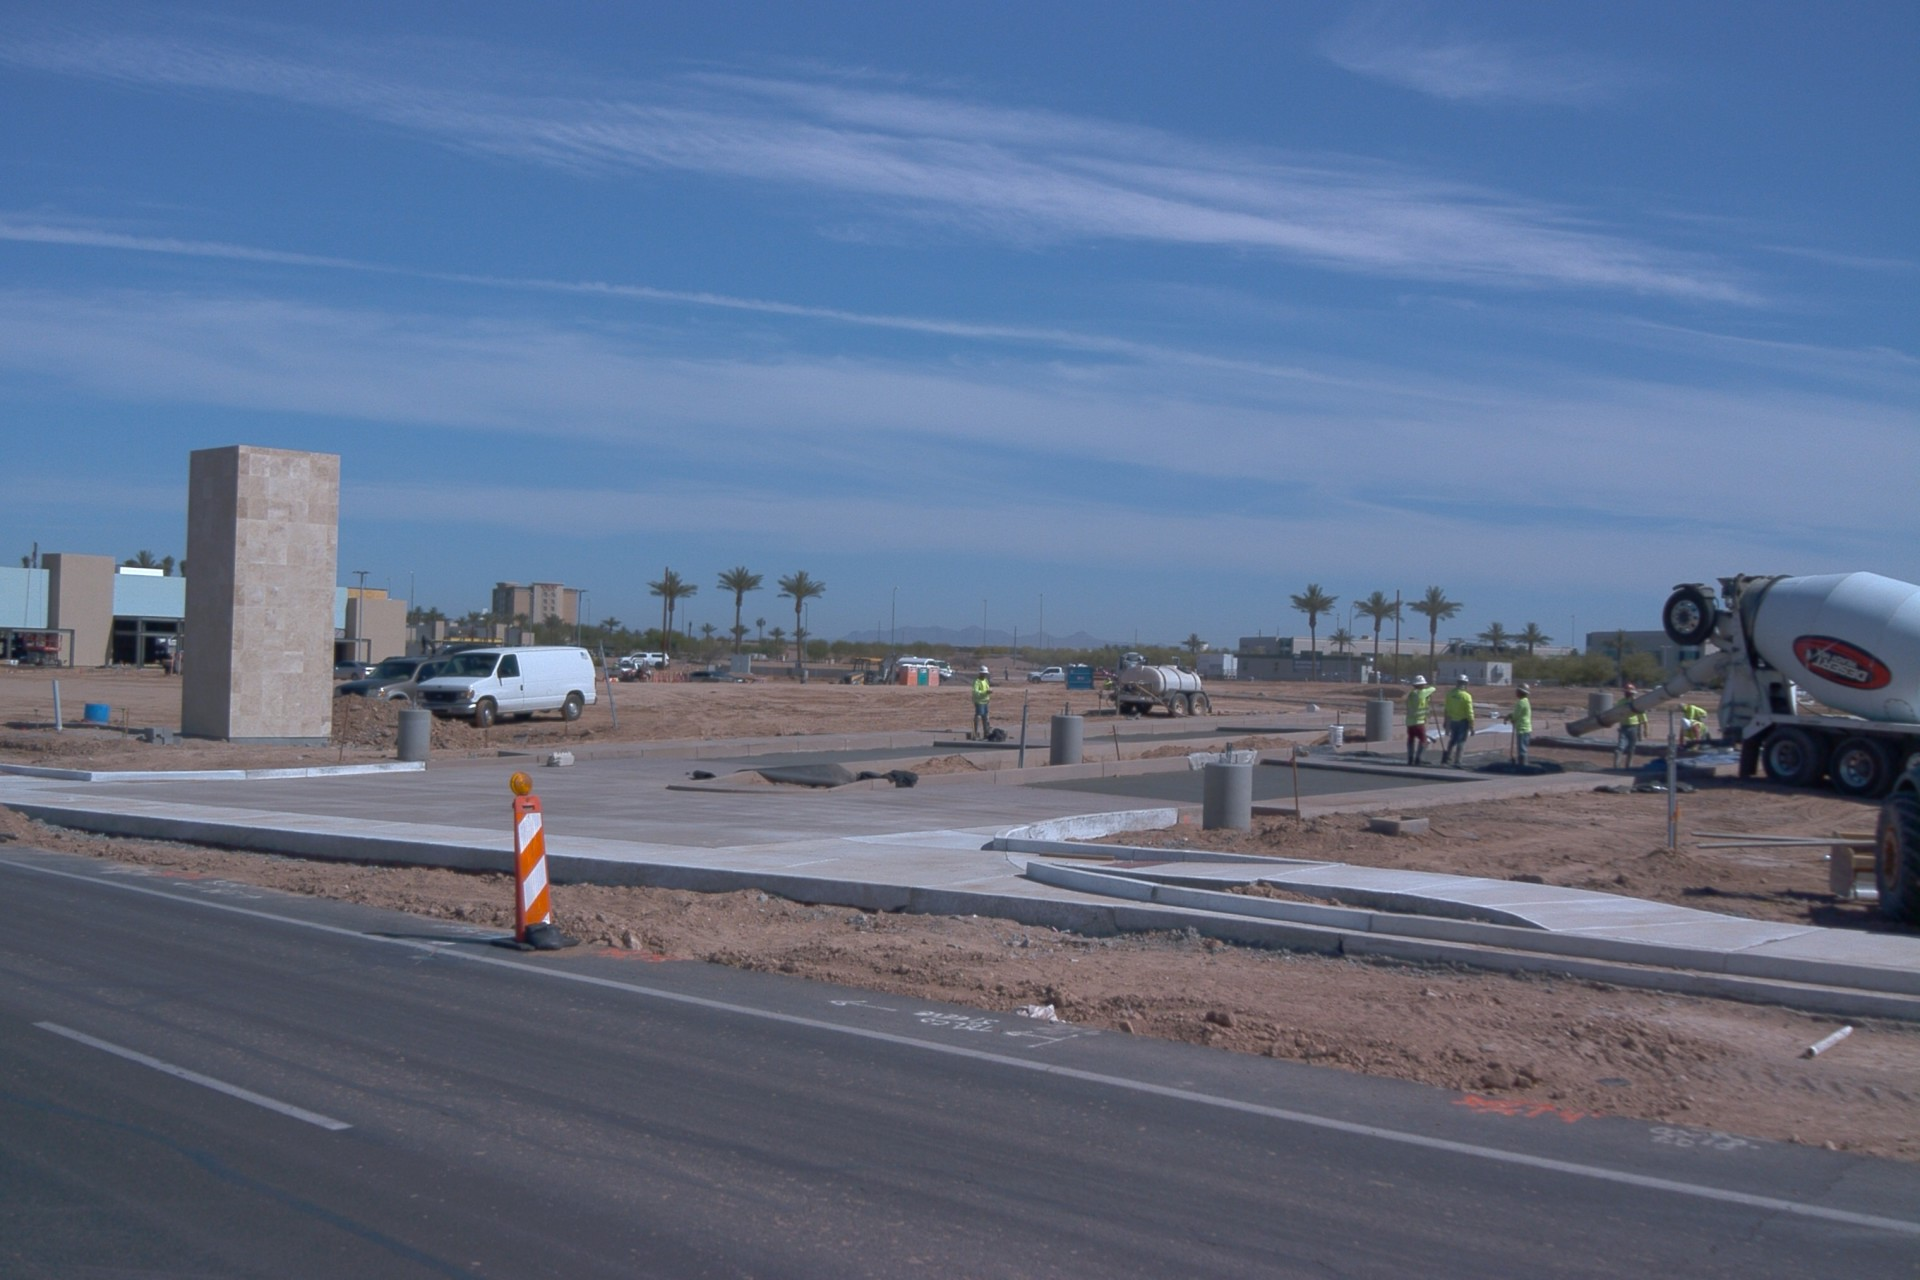TYPE_PEDESTRIAN: (1438, 673, 1477, 772), (1606, 680, 1648, 770), (1502, 679, 1536, 771), (1404, 673, 1437, 766), (970, 665, 994, 742), (1676, 715, 1709, 753), (1681, 700, 1710, 732), (1103, 675, 1115, 690), (1002, 663, 1010, 681), (610, 659, 620, 671)
TYPE_VEHICLE: (1565, 569, 1918, 804), (1821, 771, 1920, 928), (416, 646, 599, 729), (334, 654, 454, 711), (1095, 661, 1210, 717), (838, 648, 902, 687), (892, 655, 949, 688), (604, 664, 654, 685), (618, 650, 671, 669), (507, 649, 548, 672), (333, 661, 377, 682), (1115, 653, 1148, 677), (1026, 666, 1067, 683), (162, 646, 183, 678), (690, 672, 753, 682), (1094, 665, 1119, 684), (158, 635, 177, 646)
